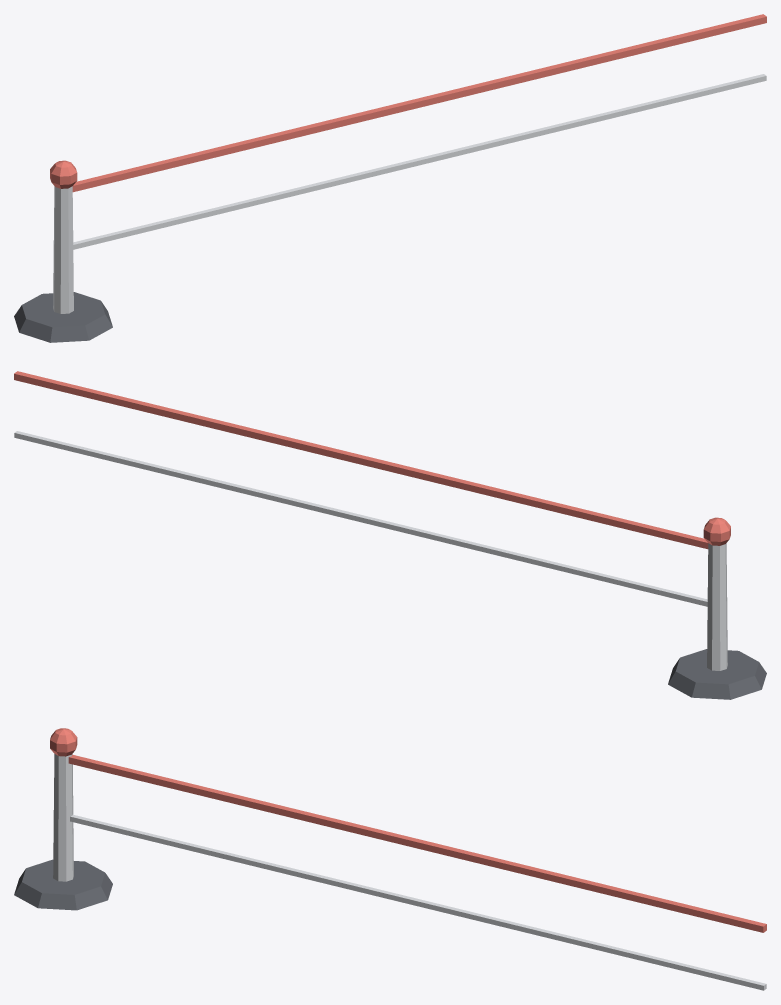
The model's file is dog-agility-and-training-field-ring-rope-run-034810d6__35596.glb.
3 views of the same model, one above another, from view 1: azimuth 30°, elevation 25°; view 2: azimuth 150°, elevation 25°; view 3: azimuth 330°, elevation 25° (orthographic).
Parts seen in each view (by area): view 1: ring-rope-run-steel, ring-rope-run-poppy, ring-rope-run-charcoal; view 2: ring-rope-run-steel, ring-rope-run-poppy, ring-rope-run-charcoal; view 3: ring-rope-run-steel, ring-rope-run-poppy, ring-rope-run-charcoal.
Part boxes in pixels (<box>): ring-rope-run-steel: <box>53,74,766,313</box>; ring-rope-run-poppy: <box>50,14,766,192</box>; ring-rope-run-charcoal: <box>14,292,112,342</box>; ring-rope-run-steel: <box>14,431,727,670</box>; ring-rope-run-poppy: <box>14,371,730,549</box>; ring-rope-run-charcoal: <box>668,649,766,699</box>; ring-rope-run-steel: <box>53,754,766,990</box>; ring-rope-run-poppy: <box>50,728,766,932</box>; ring-rope-run-charcoal: <box>14,859,112,910</box>.
Size of the model in its own units: 3.19 by 0.6549 by 0.38.
